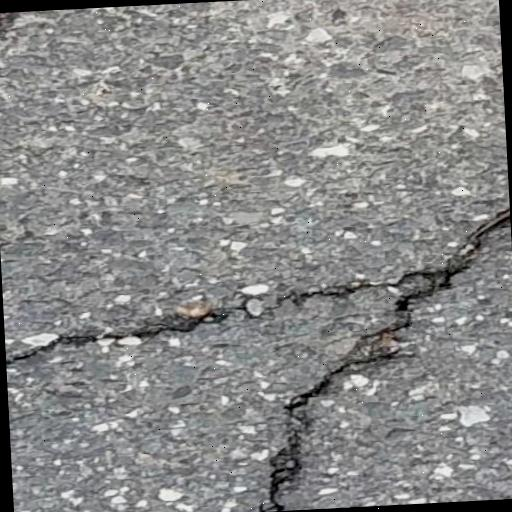spalling: (261, 200, 511, 503), (7, 271, 379, 363)
